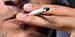smoke: (27, 6, 51, 13)
